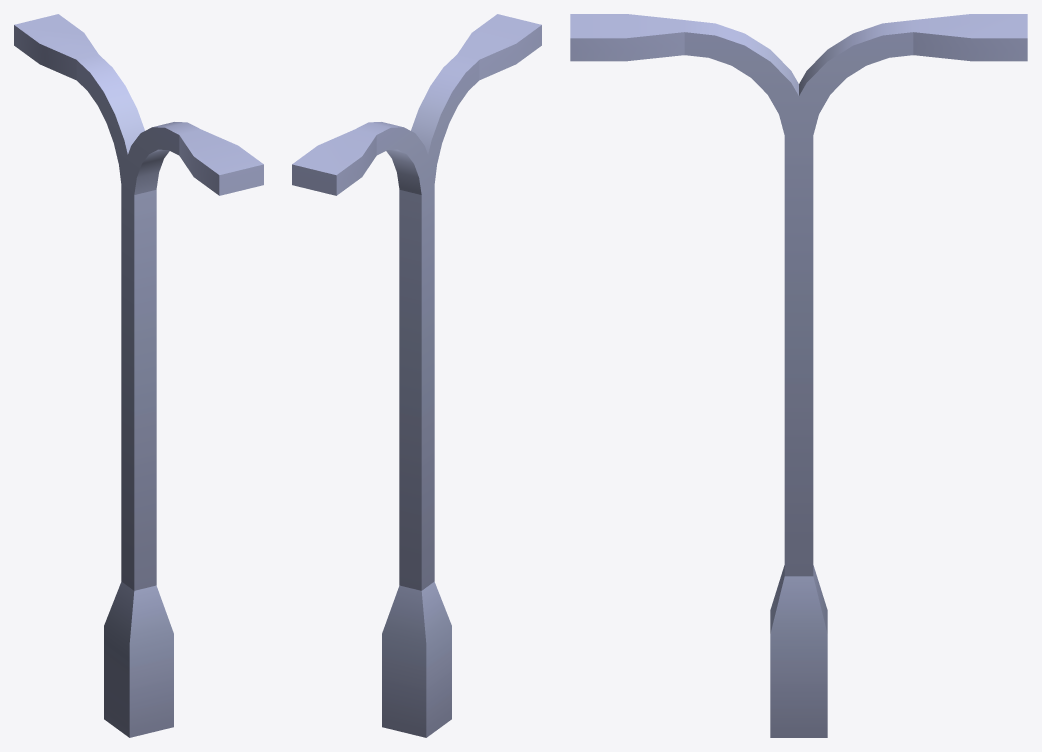
The model's file is nc_streetlight_double.glb.
The picture shows the model from 3 angles, left to right: view 1: azimuth 30°, elevation 25°; view 2: azimuth 150°, elevation 25°; view 3: azimuth 270°, elevation 25°; orthographic projection. The views are drawn at different scales.
Parts seen in each view (by area): view 1: light-curved-double; view 2: light-curved-double; view 3: light-curved-double.
Part boxes in pixels (x1,y1,x2,y2): light-curved-double: [14, 14, 263, 737]; light-curved-double: [292, 14, 541, 737]; light-curved-double: [570, 14, 1027, 737].
Size of the model in its own units: 0.5185 by 7 by 4.15.
1 material, 1 textured.
